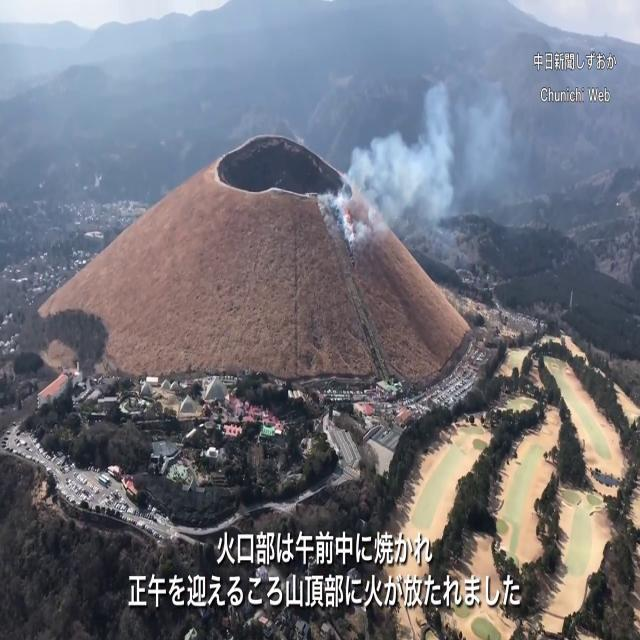Smoke: (332, 68, 518, 238)
